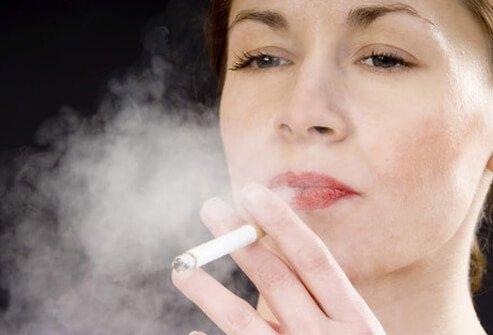cigarette: (169, 222, 270, 274)
